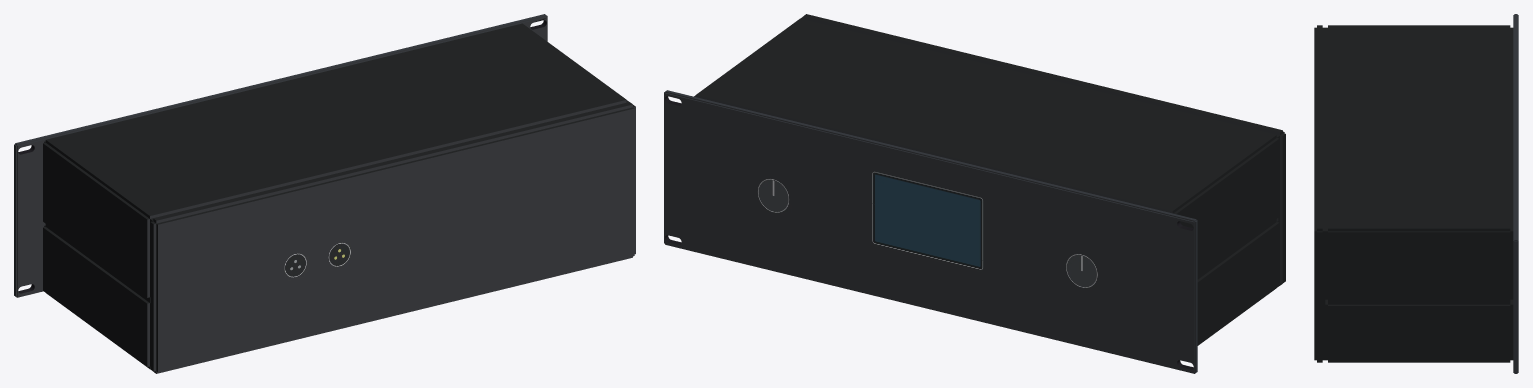
3 renders of one model, left to right at view 1: azimuth 30°, elevation 25°; view 2: azimuth 150°, elevation 25°; view 3: azimuth 270°, elevation 25°, orthographic. The views are drawn at different scales.
Parts seen in each view (by area): view 1: ua-la-2a-body; view 2: ua-la-2a-body; view 3: ua-la-2a-body.
Boxes of the visible parts, left/top/right/bottom form: ua-la-2a-body: left=14, top=14, right=635, bottom=373; ua-la-2a-body: left=664, top=14, right=1285, bottom=373; ua-la-2a-body: left=1314, top=14, right=1518, bottom=373.
Bounding box in the file's own units: 0.483 × 0.133 × 0.184.
Materials: 1 (1 with a texture image).
